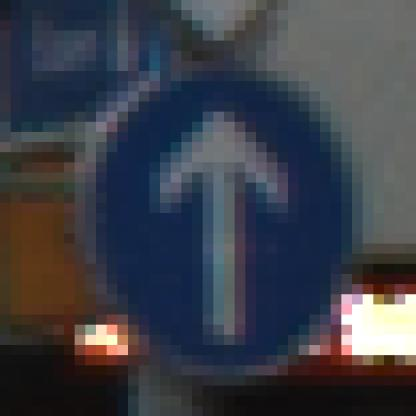AheadOnly: (65, 52, 364, 366)
